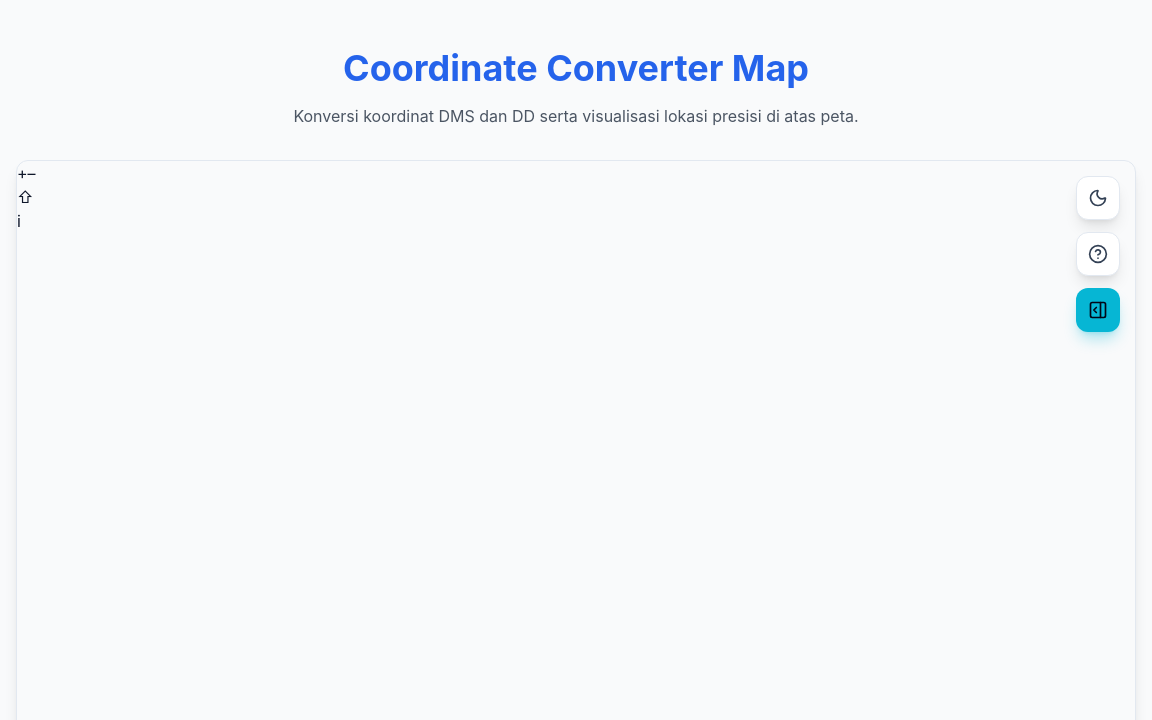
it: application workflow › opens the conversion sidebar and converts a DMS coordinate
Click the button named "Toggle form" at x=1098, y=310, box [1076,288,1120,332]
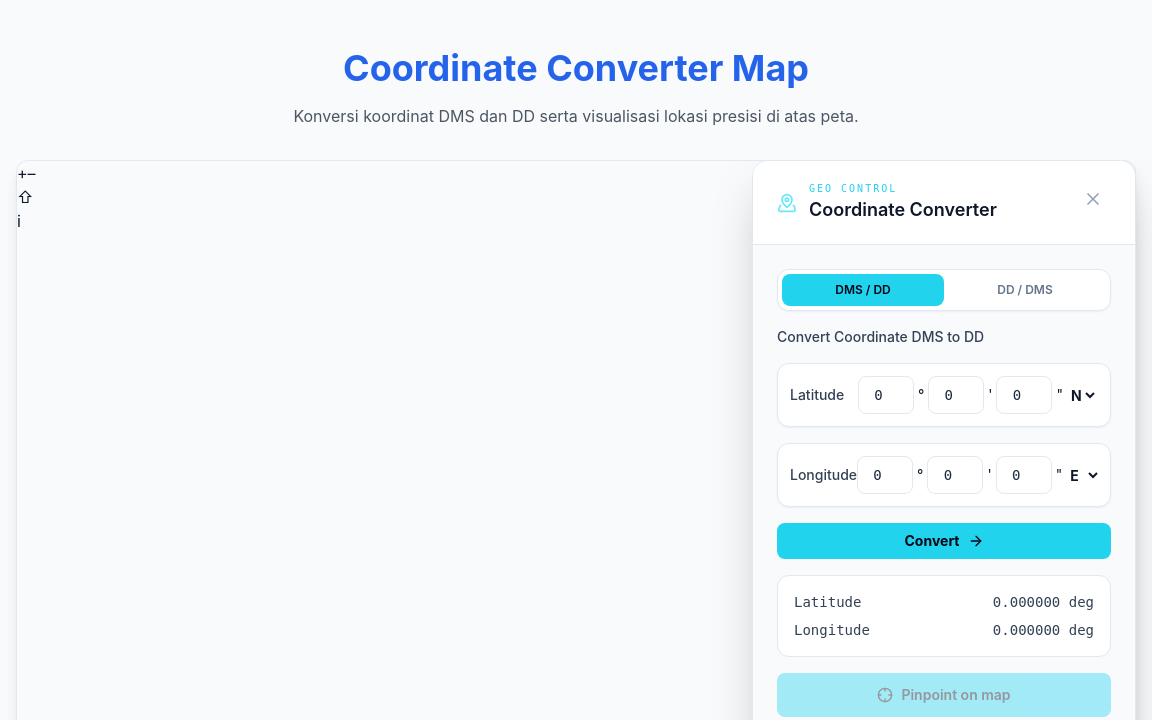
Expected: the heading "Coordinate Converter" is shown, [809,196,997,224]
Replace the text in the 1st number field with "49" at x=886, y=395, box [858,376,914,414]
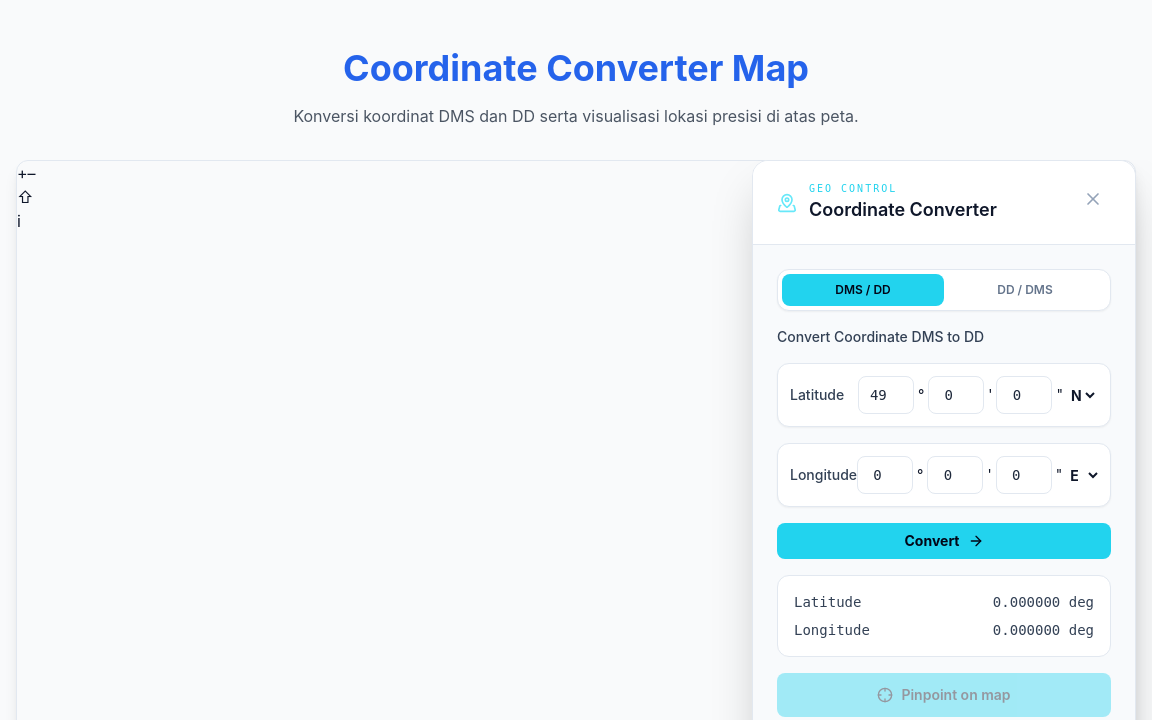
Replace the text in the 2nd number field with "30" at x=956, y=395, box [928,376,984,414]
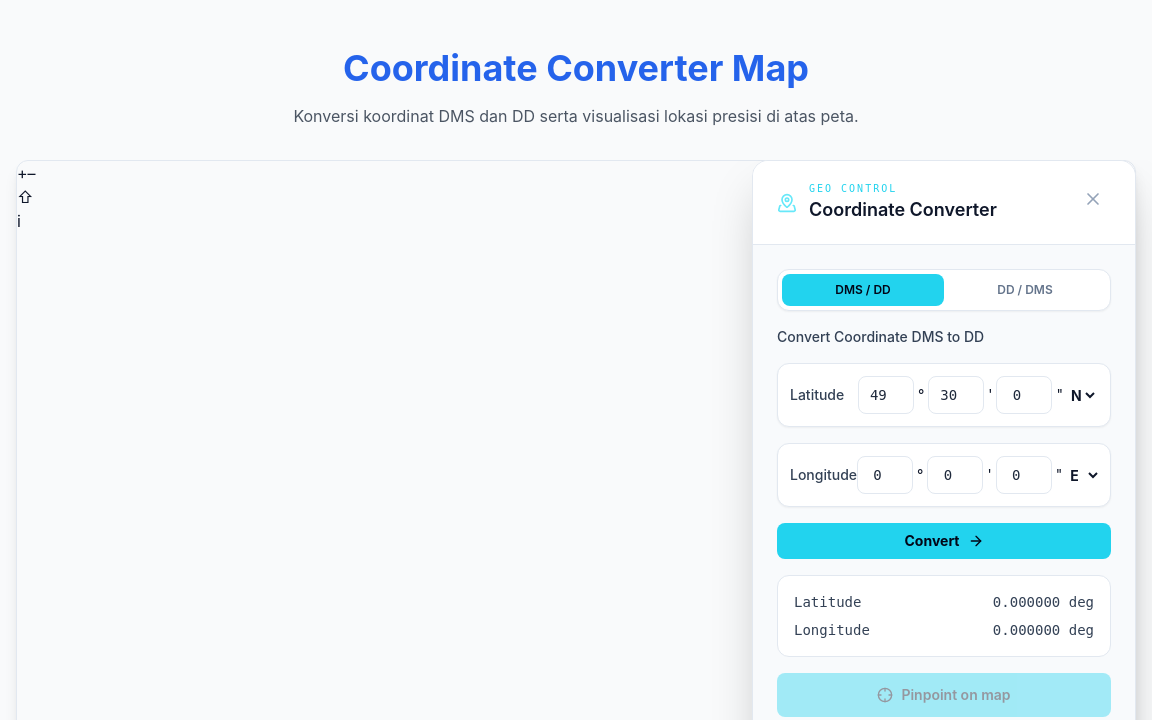
Replace the text in the 3rd number field with "10" at x=1024, y=395, box [996,376,1052,414]
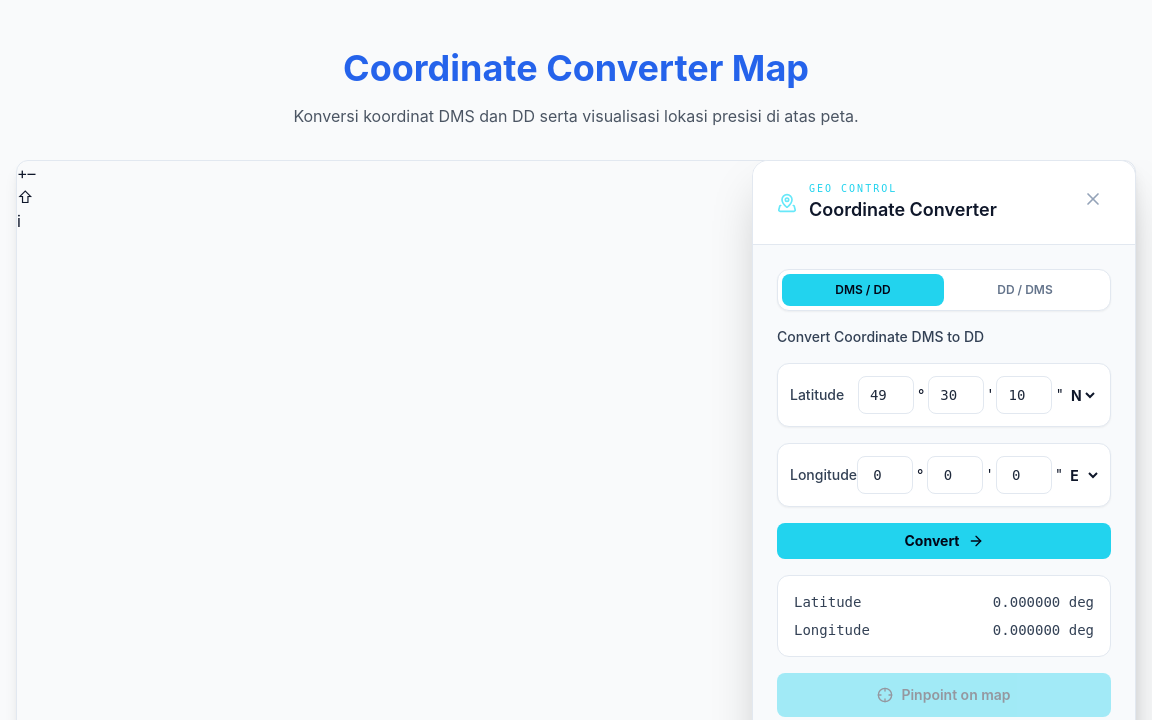
Click the button "Convert" at x=944, y=541, box [777,523,1111,559]
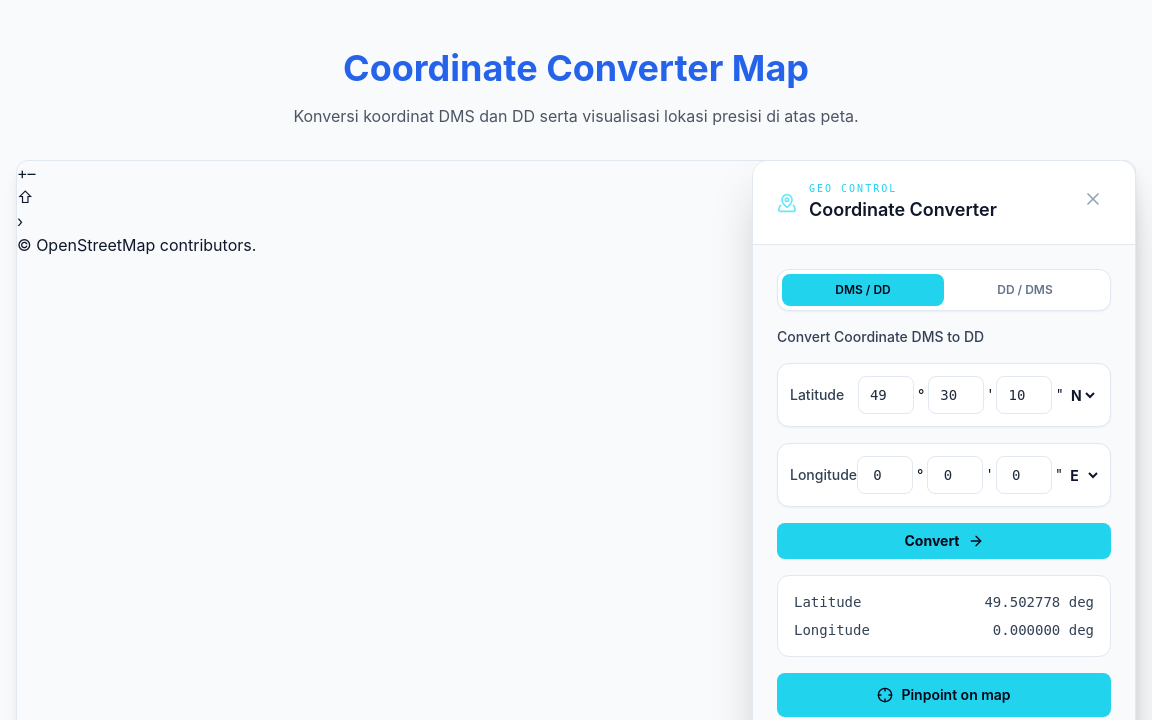
Expected: the text "49.502778 deg" is shown, [984,592,1094,612]
